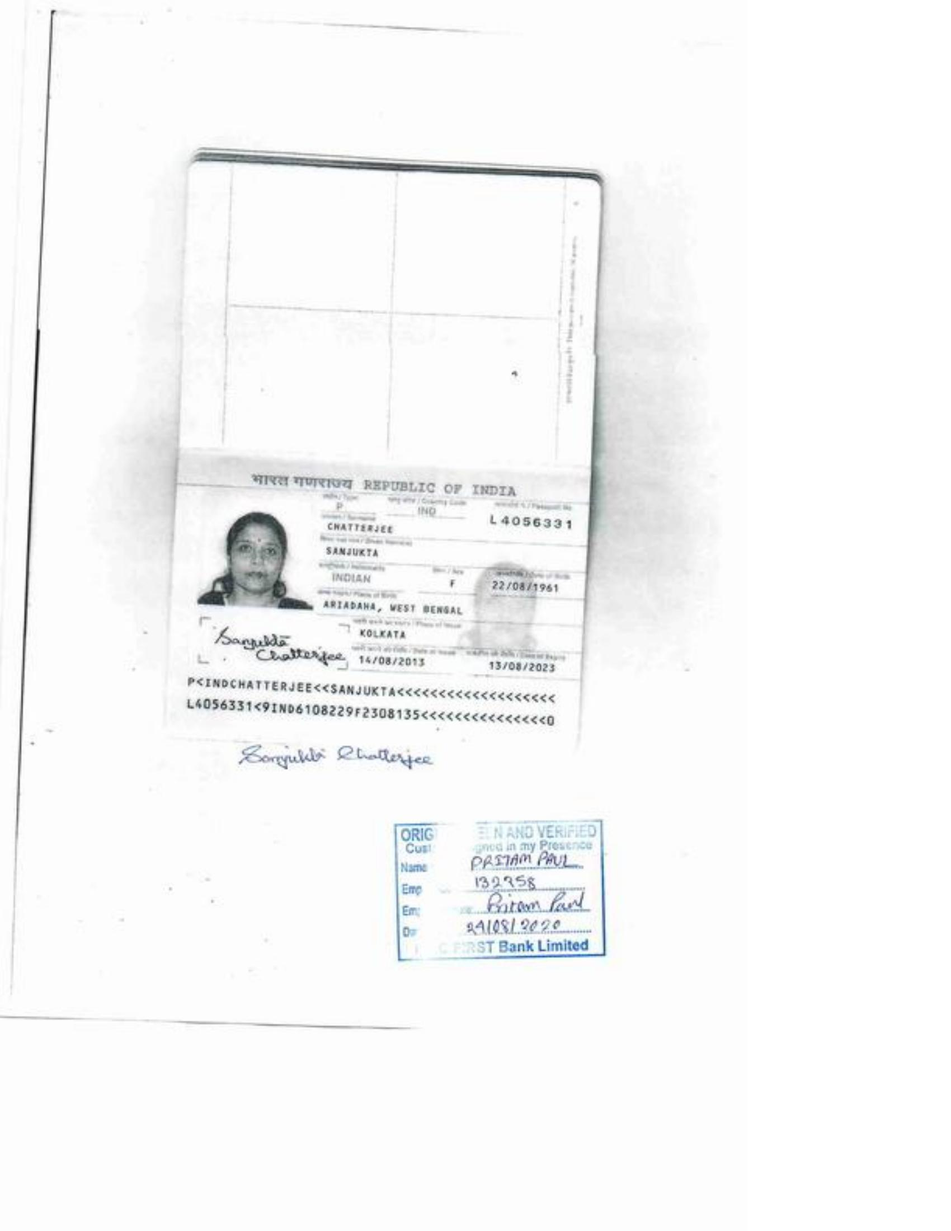DOB: (474, 579, 571, 599)
Surname: (322, 518, 404, 542)
country_code: (414, 502, 442, 518)
date_of_expiry: (477, 655, 569, 675)
date_of_issue: (357, 654, 431, 672)
details: (178, 679, 560, 724)
name: (311, 542, 409, 562)
nationality: (320, 567, 384, 590)
passport_no: (476, 511, 582, 536)
photo: (203, 499, 304, 603)
place_of_birth: (318, 596, 465, 620)
place_of_issue: (358, 624, 410, 646)
sex: (431, 574, 466, 597)
sign: (213, 620, 342, 671)
type: (323, 496, 367, 518)
